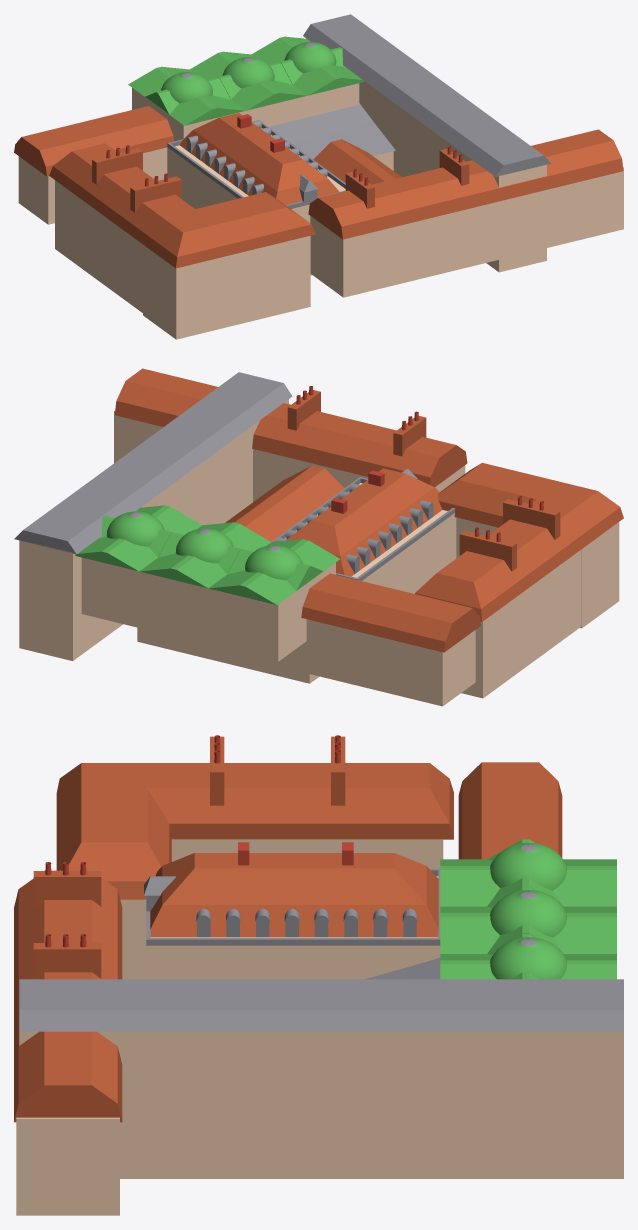
File: PFE_Buildings.fbx
3 renders of one model, top to bottom at view 1: azimuth 30°, elevation 25°; view 2: azimuth 150°, elevation 25°; view 3: azimuth 270°, elevation 25°, orthographic. The views are drawn at different scales.
Visible parts, largest first — view 1: Ground.023; view 2: Ground.023; view 3: Ground.023.
Boxes of the visible parts, x1=… form: Ground.023: x1=14, y1=14, x2=623, y2=339; Ground.023: x1=14, y1=368, x2=623, y2=706; Ground.023: x1=14, y1=735, x2=623, y2=1215.
Size of the model in its own units: 6875 by 2123 by 5317.
